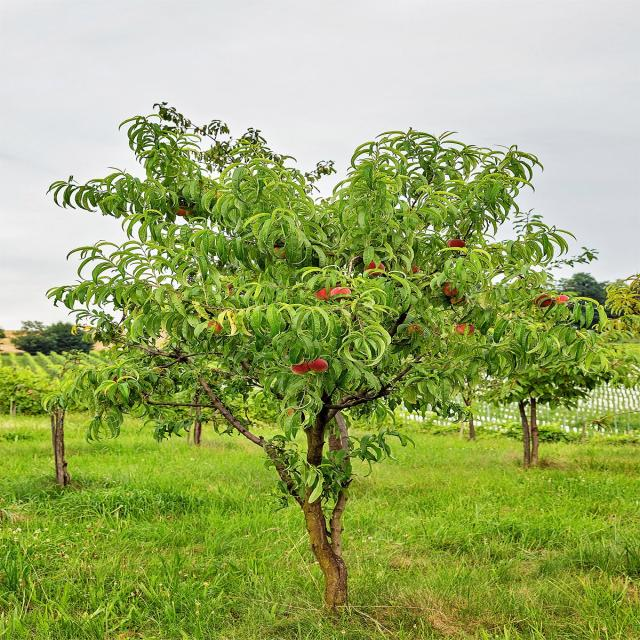Peach: (54, 98, 640, 453)
